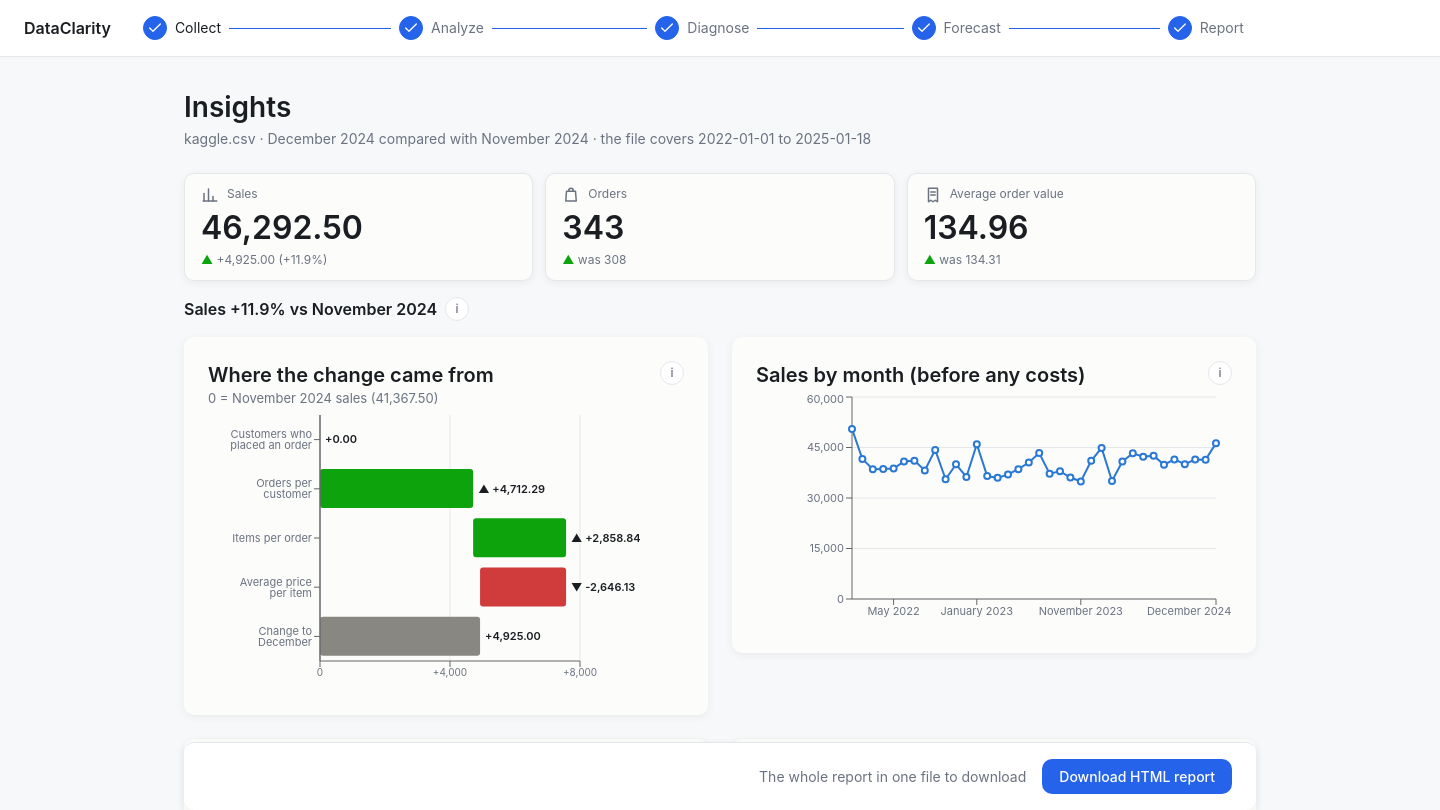
Test: Insights: pictures and figures, almost no text › Kaggle: the trend's caption stands behind its marker, not under the chart
Click the button with class "marker" next to "Sales by month (before any costs)" at [1220, 373], box [1208,361,1232,385]
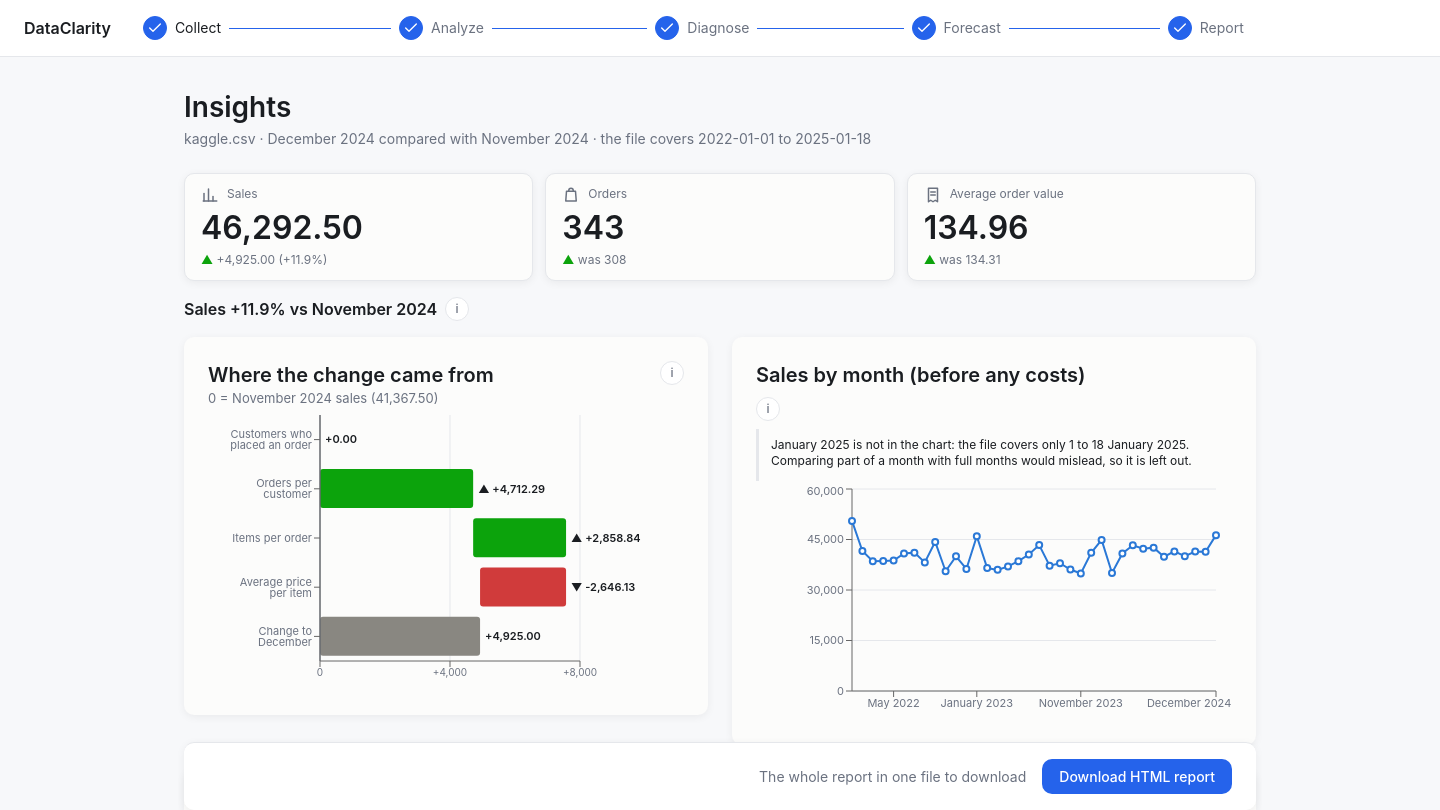
Result: the element with class "marker__panel" shows "January 2025 is not in the chart: the file covers only 1 to 18 January 2025. Comparing part of a month with full months would mislead, so it is left out." at [771,437,1192,468]
